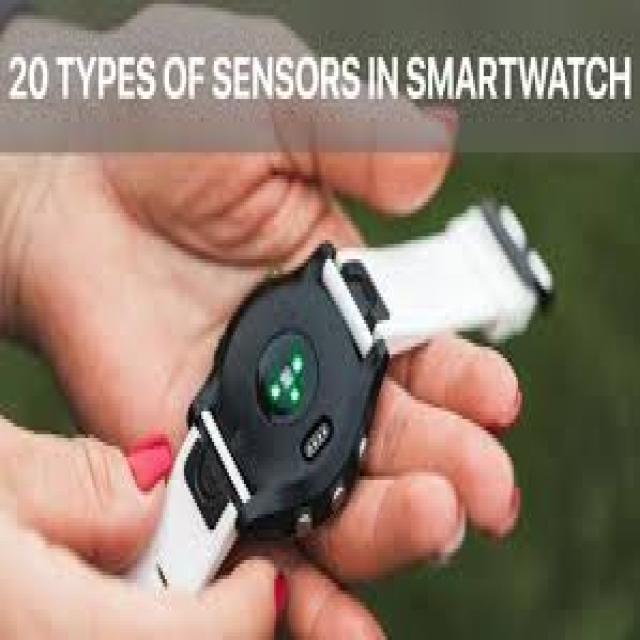objects: (131, 202, 552, 590)
